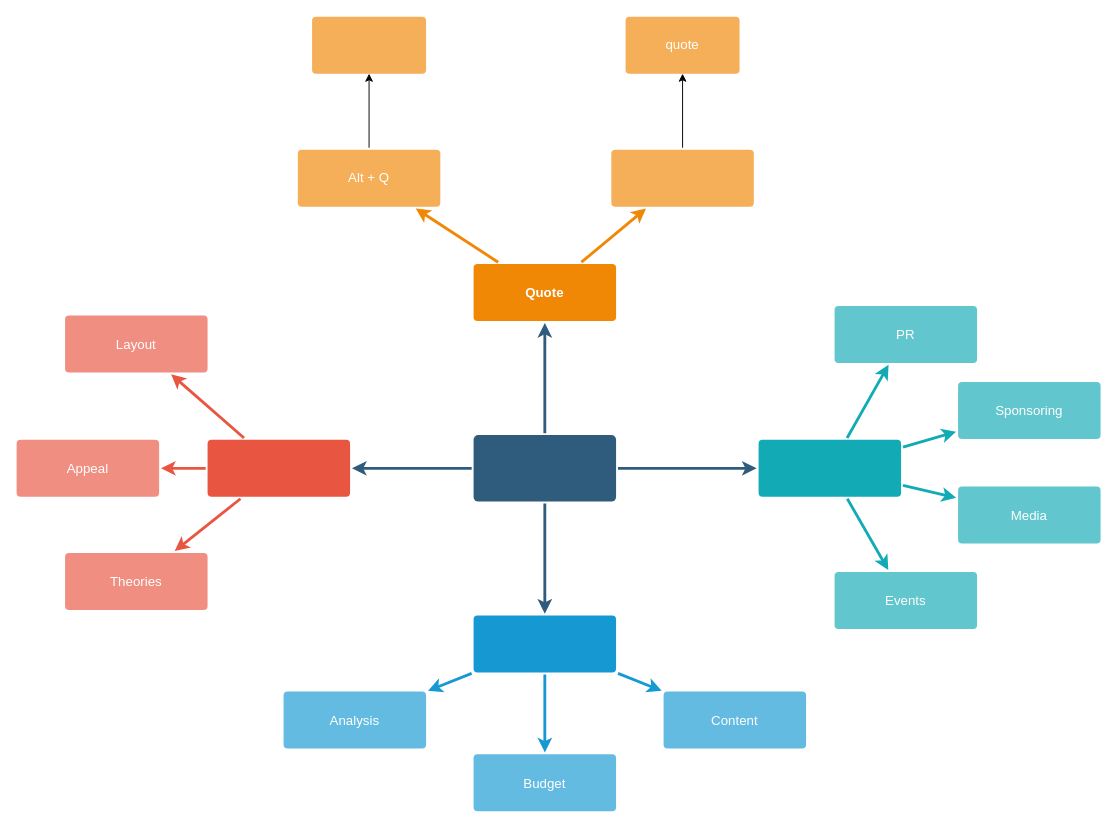
Some shapes in this 1116 by 827 pixel diagram are drawn without their labels. Each missing label, with the box of its shape:
" quote ": (312, 16, 426, 73)
Communication: (758, 439, 901, 496)
Ctl + Q: (611, 149, 753, 206)
Embassy: (207, 439, 350, 496)
Organization: (473, 615, 616, 672)
Steam writing assistant: (473, 435, 616, 501)
